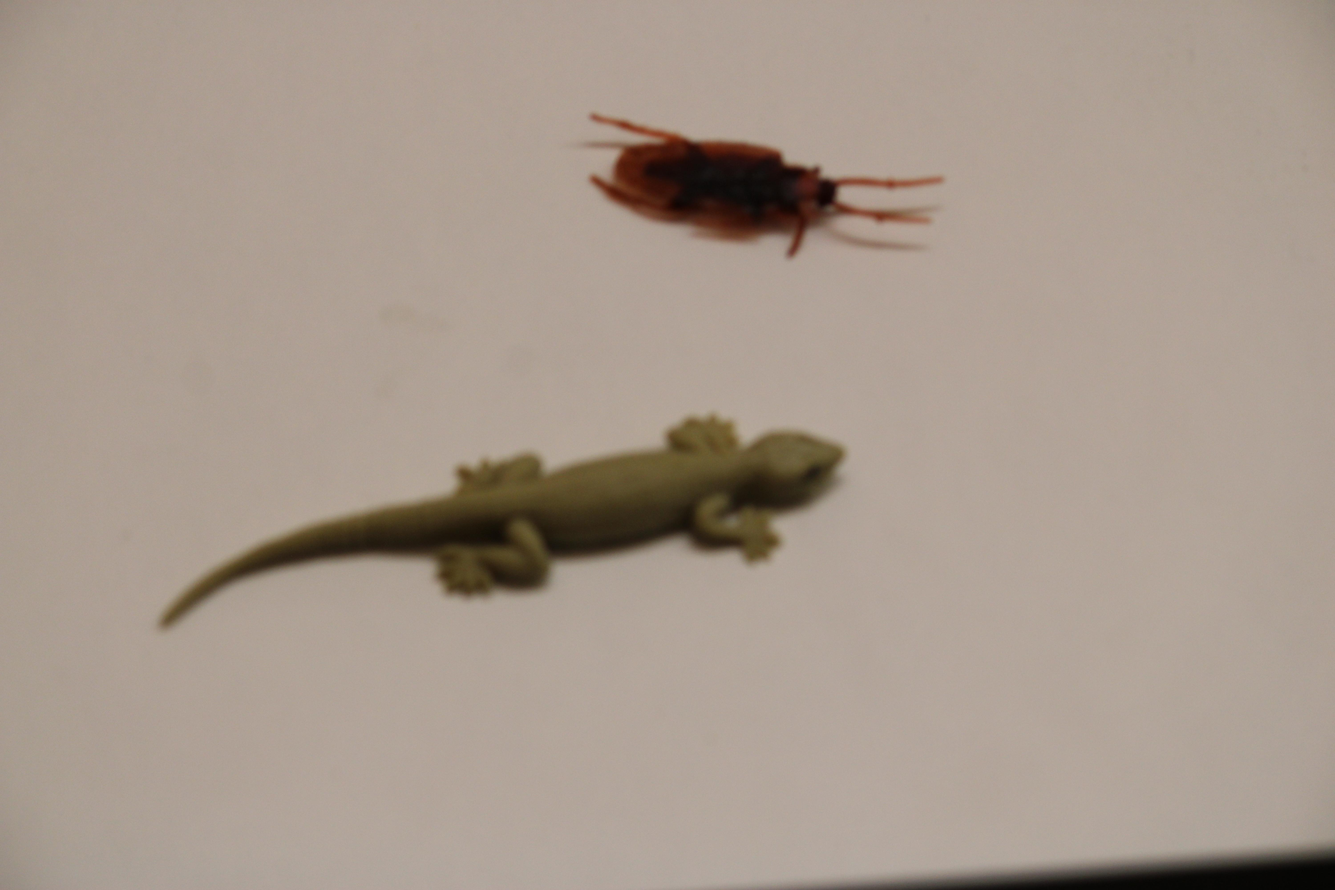cockroach: (566, 92, 943, 274)
lizard: (129, 399, 847, 653)
